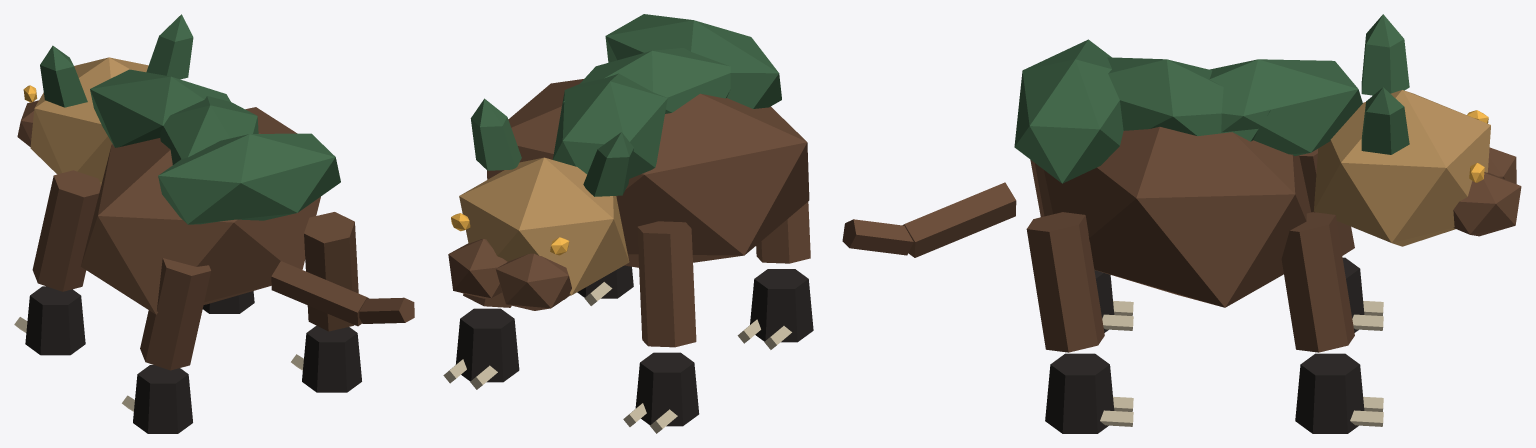
Rendered from Monster_1.fbx.
3 views of the same model, side by side, from view 1: azimuth 30°, elevation 25°; view 2: azimuth 150°, elevation 25°; view 3: azimuth 270°, elevation 25° (orthographic). The views are drawn at different scales.
Visible parts, largest first — view 1: Body, Head, LegFR, LegBR, LegBL, Tail, LegFL; view 2: Body, Head, LegFR, LegBR, LegFL, LegBL; view 3: Body, Head, LegBL, LegFL, Tail, LegFR, LegBR.
Part boxes in pixels (bbox=[...]): Body: bbox=[81, 69, 340, 314]; Head: bbox=[17, 14, 193, 185]; LegFR: bbox=[14, 170, 100, 355]; LegBR: bbox=[122, 258, 210, 433]; LegBL: bbox=[291, 212, 361, 392]; Tail: bbox=[271, 261, 414, 326]; LegFL: bbox=[203, 291, 254, 313]; Body: bbox=[487, 14, 809, 267]; Head: bbox=[448, 98, 633, 310]; LegFR: bbox=[623, 221, 699, 433]; LegBR: bbox=[737, 202, 813, 349]; LegFL: bbox=[443, 292, 519, 389]; LegBL: bbox=[564, 265, 633, 305]; Body: bbox=[1014, 39, 1362, 307]; Head: bbox=[1313, 14, 1521, 246]; LegBL: bbox=[1026, 212, 1133, 433]; LegFL: bbox=[1281, 212, 1383, 433]; Tail: bbox=[842, 182, 1016, 257]; LegFR: bbox=[1299, 149, 1383, 332]; LegBR: bbox=[1030, 160, 1133, 332].
Size of the model in its own units: 0.7807 by 0.8 by 1.53.
Materials: 1 (1 with a texture image).
